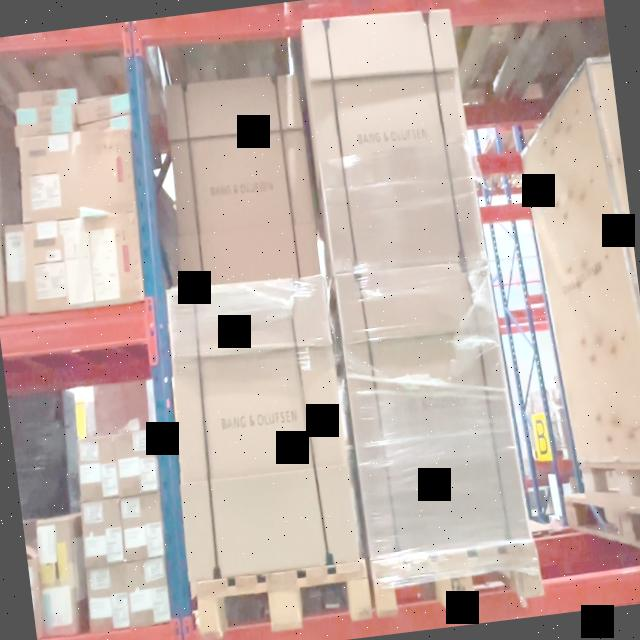box: (164, 280, 359, 577), (335, 264, 531, 557), (303, 9, 486, 266), (21, 212, 145, 312), (20, 131, 135, 219), (121, 491, 164, 563), (126, 557, 170, 627), (86, 563, 130, 632), (82, 498, 125, 567), (114, 429, 158, 495), (80, 437, 119, 503), (75, 91, 129, 125), (16, 106, 76, 124), (19, 88, 78, 105)
